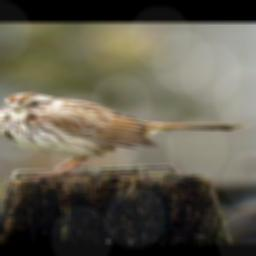Sparrow: (0, 91, 245, 177)
